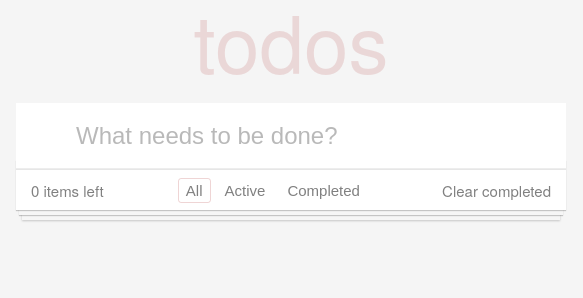
Test case: добавление new todo
Type "new todo" into the field with placeholder "What needs to be done?" at (291, 136), box [16,103,566,169]
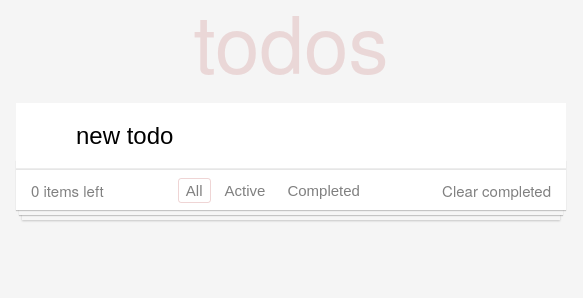
Submit the form from the field with placeholder "What needs to be done?", box [16,103,566,169]
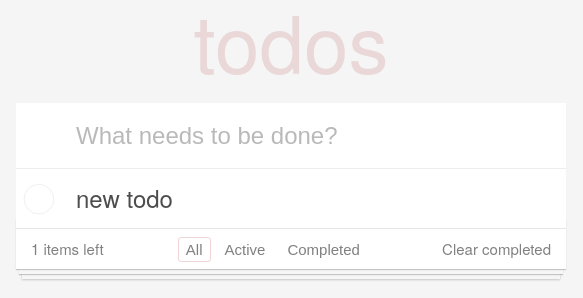
Now the text "new todo" is shown, box [76,184,173,213]
